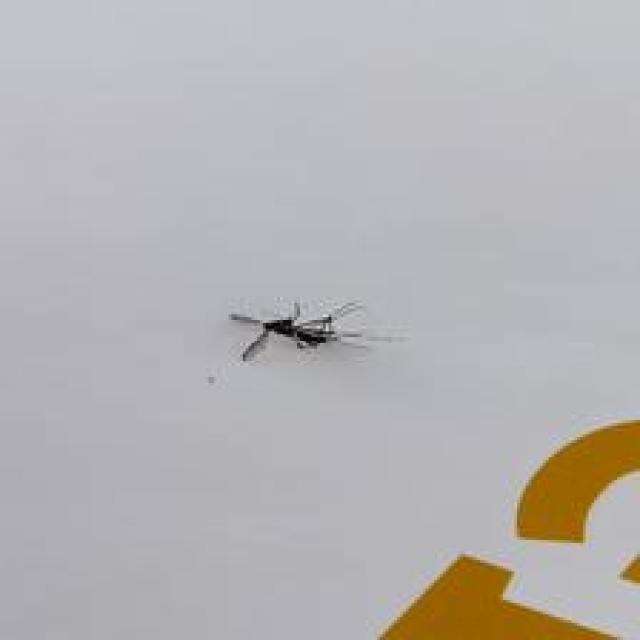Aedes albopictus: (227, 297, 367, 363)
